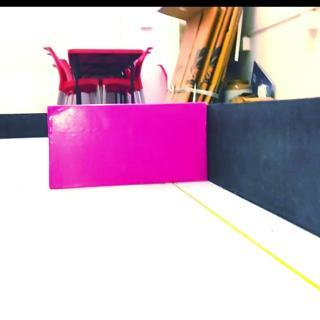xparking: (48, 109, 208, 190)
